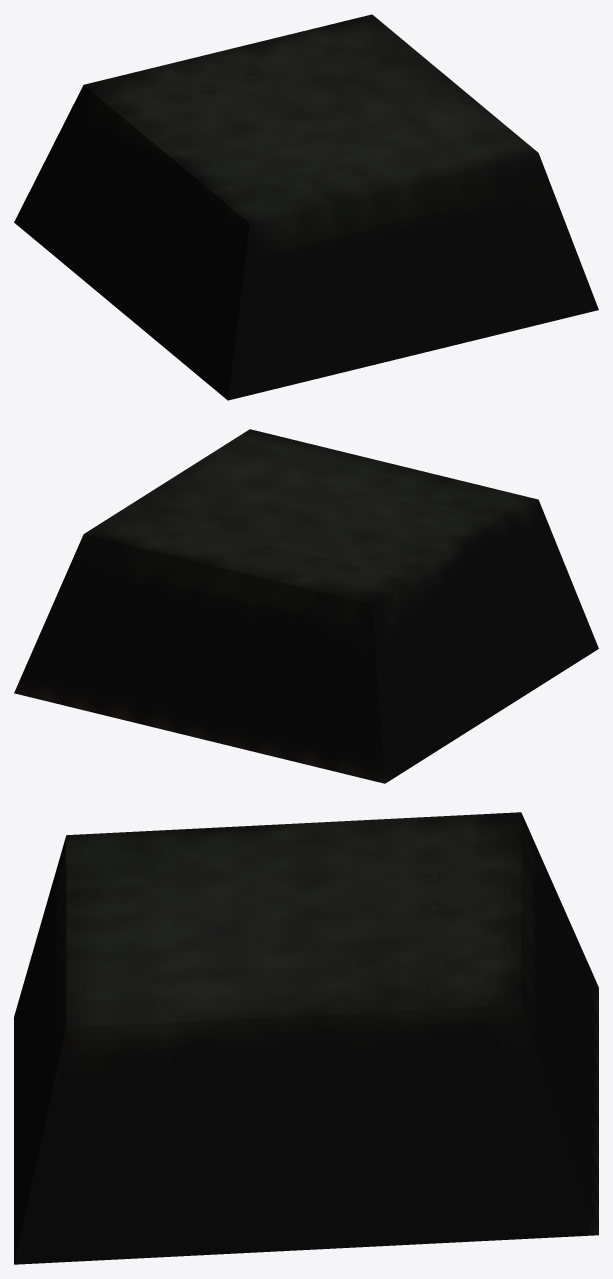
The model's file is link_19__key-25.glb.
3 views of the same model, one above another, from view 1: azimuth 30°, elevation 25°; view 2: azimuth 150°, elevation 25°; view 3: azimuth 270°, elevation 25° (orthographic). The views are drawn at different scales.
Parts seen in each view (by area): view 1: geometry_0; view 2: geometry_0; view 3: geometry_0.
Boxes of the visible parts, x1,y1,x2,y2 form: geometry_0: (14,14,598,400); geometry_0: (14,429,598,783); geometry_0: (14,812,598,1264).
Size of the model in its own units: 0.0719 by 0.0315 by 0.0718.
Materials: 1 (1 with a texture image).
